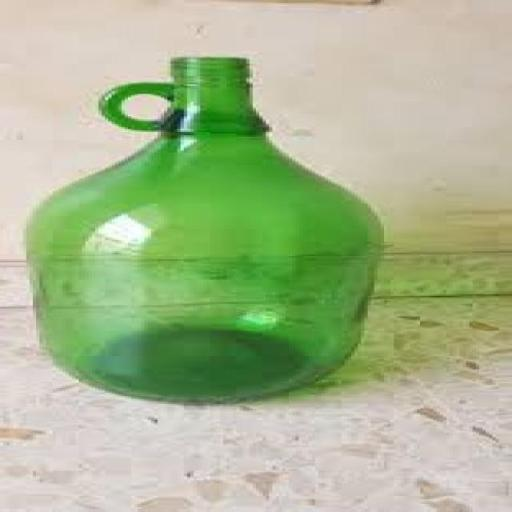glass: (27, 59, 391, 403)
